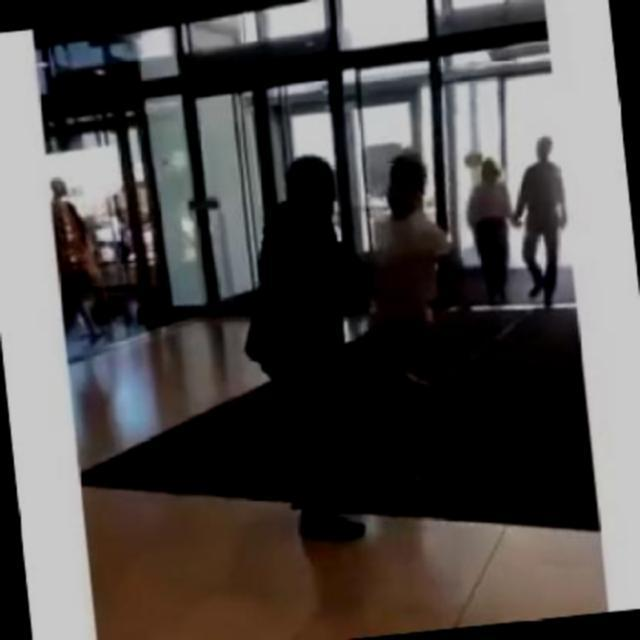fight: (225, 142, 480, 556)
